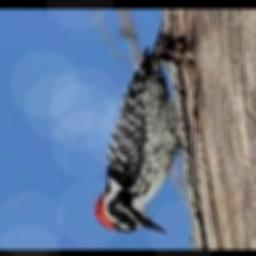Woodpecker: (93, 36, 182, 233)
